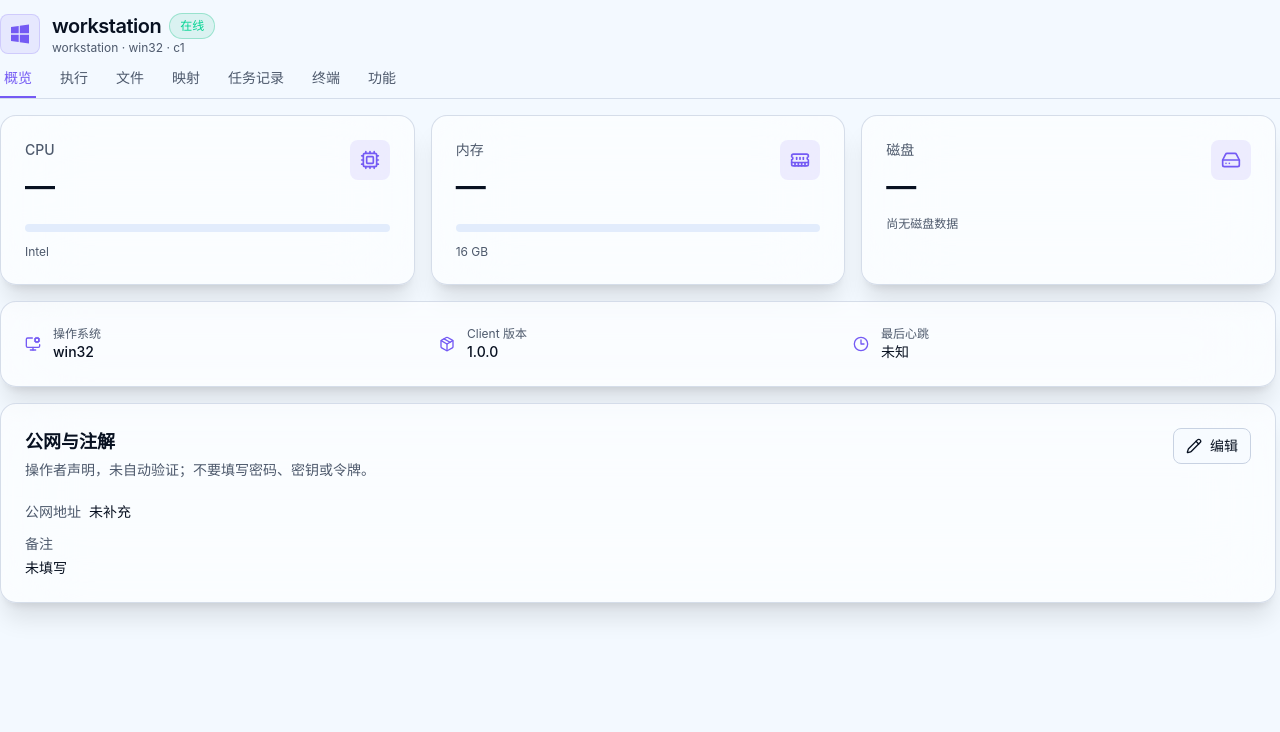
Test: MachineWorkspace 名称双击编辑 › 改名撞重名时显示占用提示并保持编辑态
Step 1. Double-click the heading "workstation" → (107, 26), box [52, 12, 161, 40]
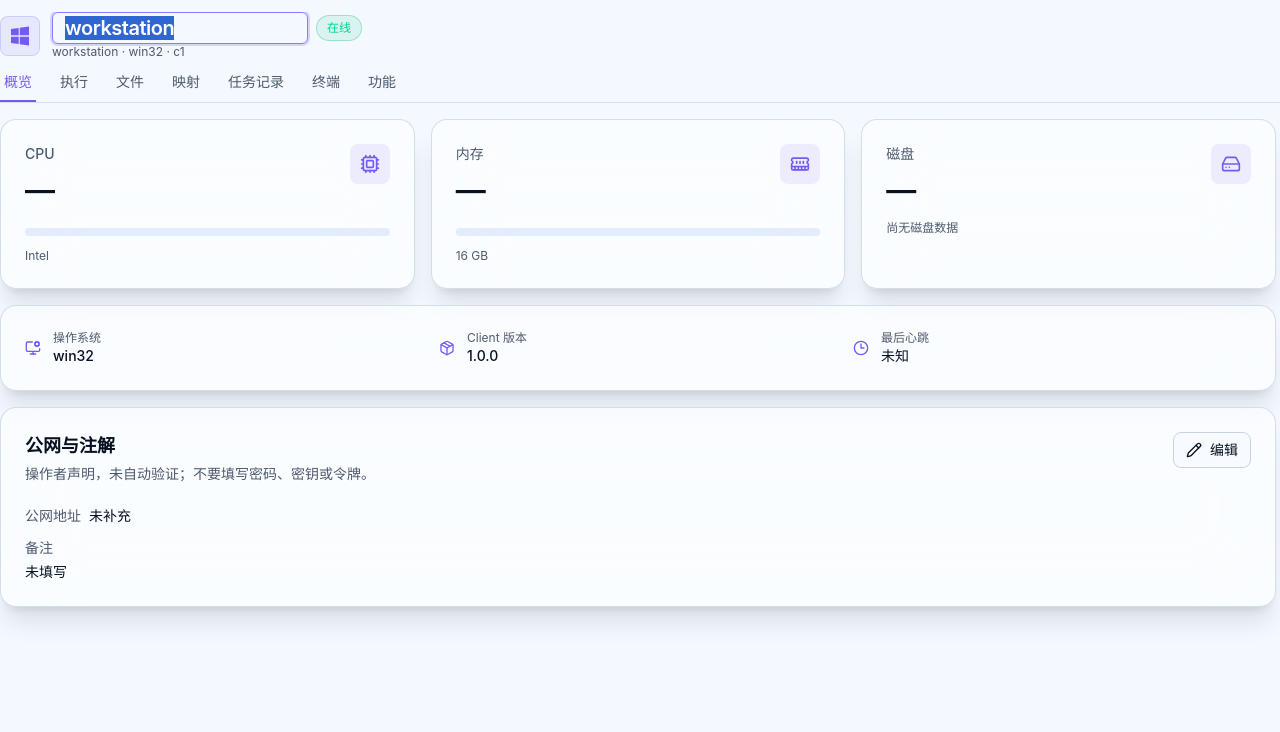
Step 2. Replace the text in the field named "机器名称" with "被占用名" → (180, 28), box [52, 12, 308, 44]
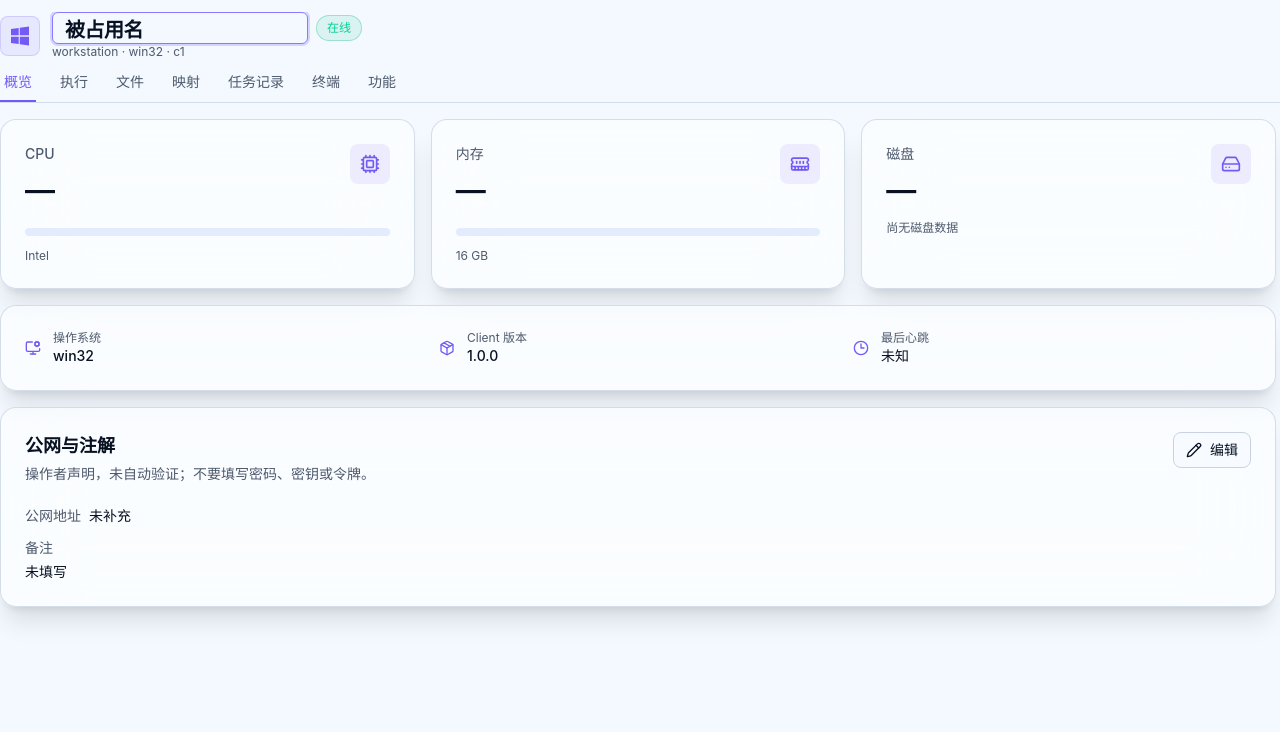
Step 3. Press Enter in the field named "机器名称", box [52, 12, 308, 44]
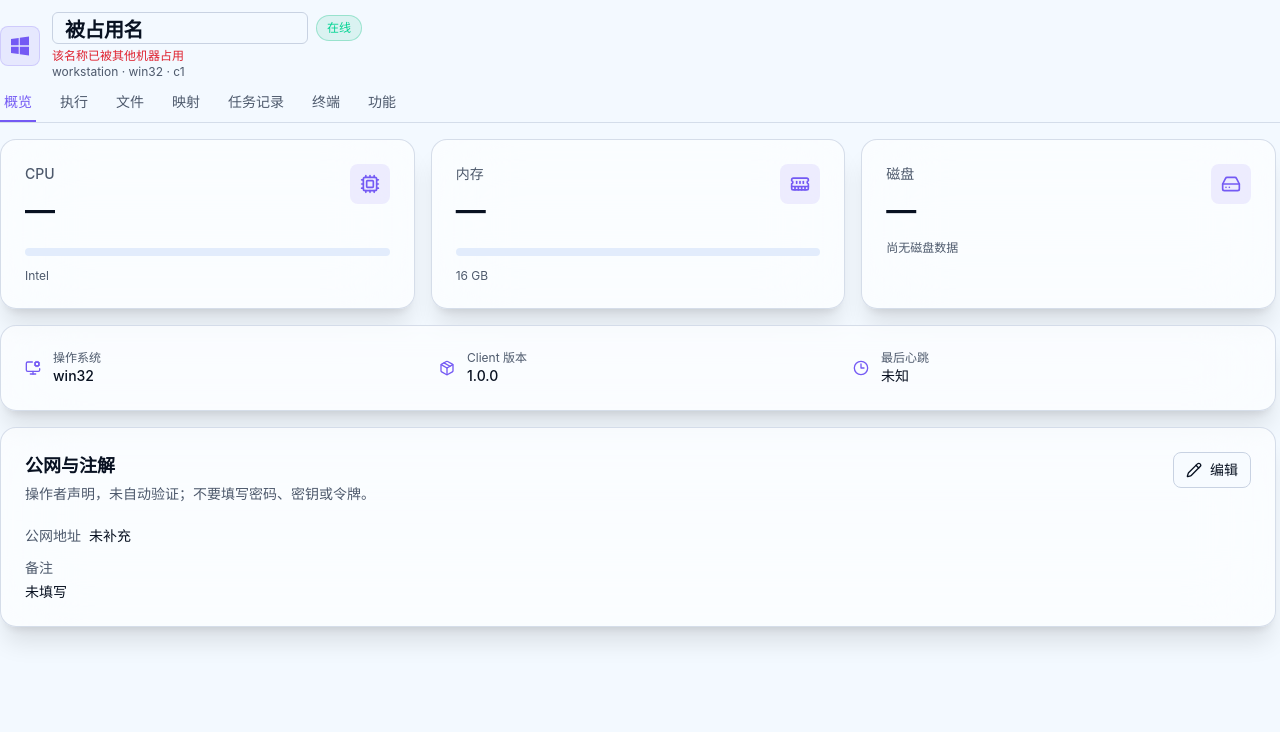
Now the text with test id "machine-name-error" reads "该名称已被其他机器占用", box [52, 48, 184, 63]
